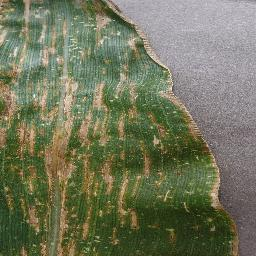Gray_Leaf_Spot: (0, 173, 235, 256), (0, 2, 178, 102), (0, 102, 221, 175)
